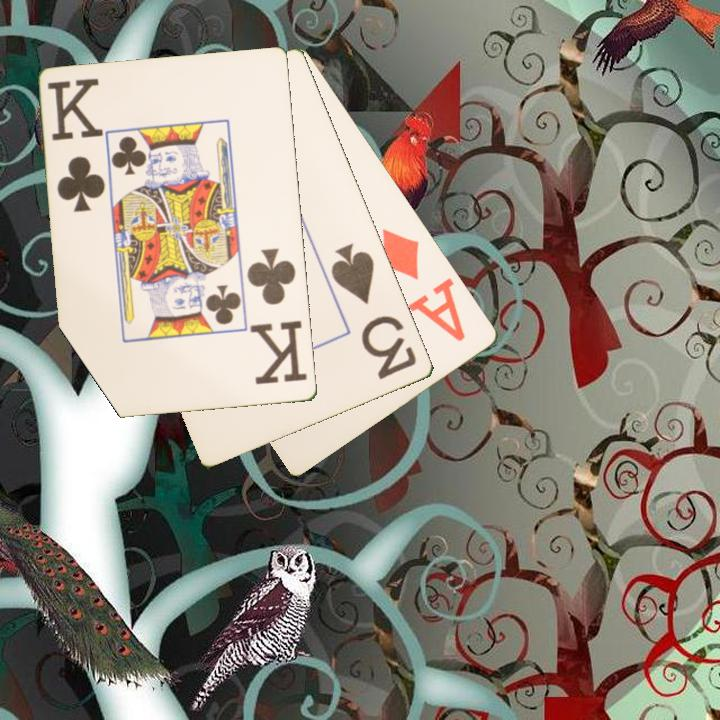3s: (327, 240, 420, 383)
Ad: (378, 225, 469, 345)
Kc: (244, 245, 311, 388), (44, 75, 109, 216)
